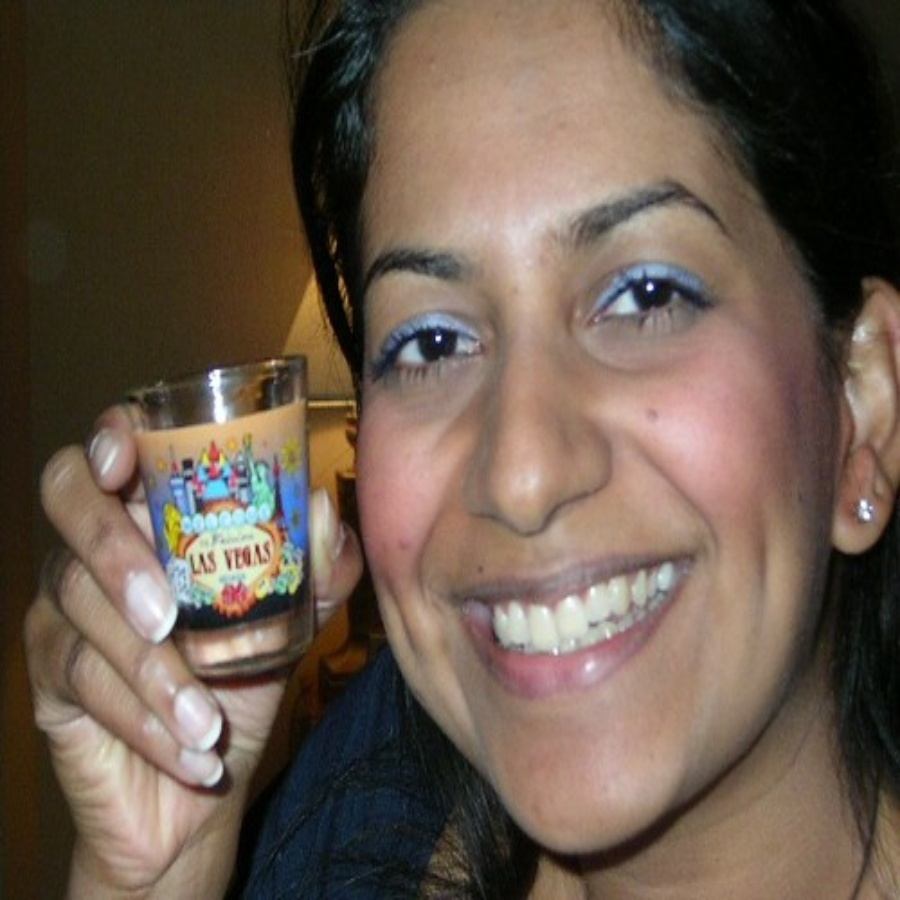whiskey: (130, 343, 331, 703)
